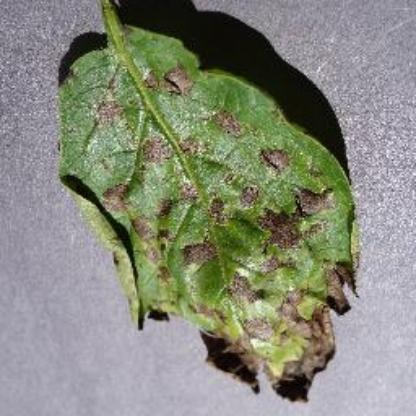Early-Blight: (55, 0, 371, 406)
